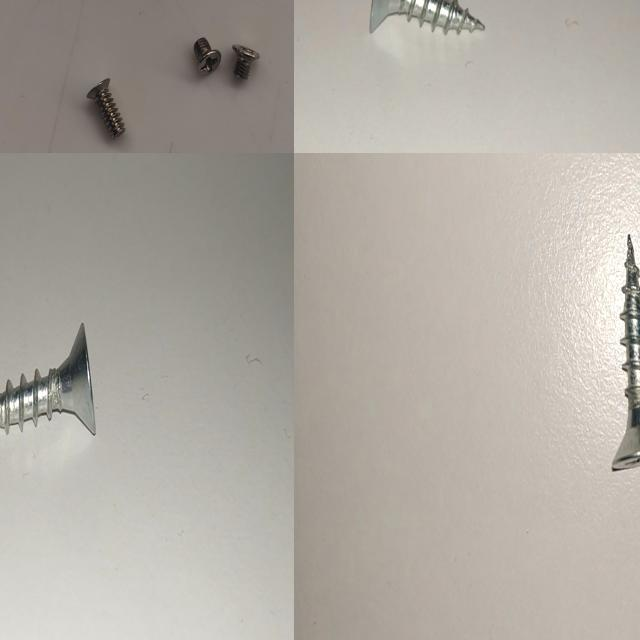Screw: (0, 322, 96, 433), (612, 233, 640, 470), (369, 0, 484, 34), (84, 73, 128, 144), (186, 32, 224, 79), (228, 38, 263, 86)
